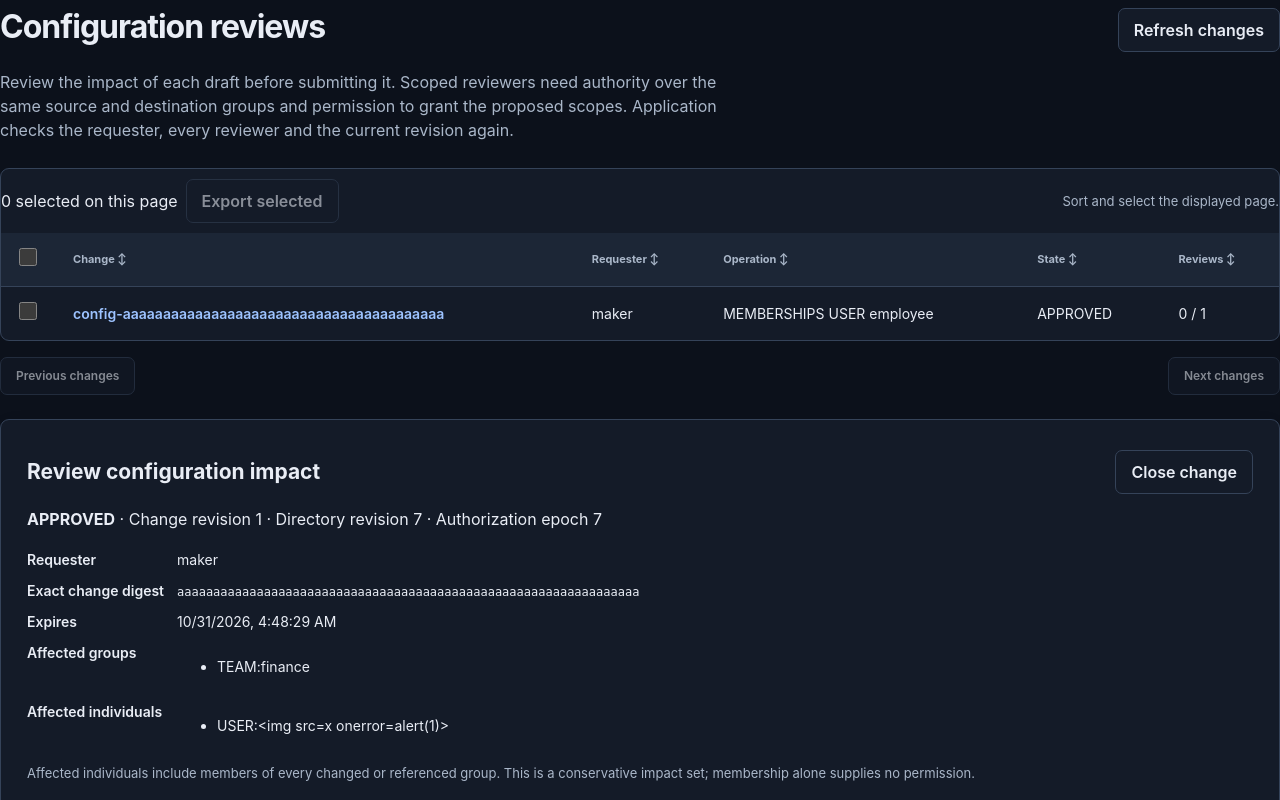
Scenario: removes stale review actions when refreshing the detail fails
This screenshot has width=1280, height=800.
Click the button "Refresh changes".
click(1199, 30)  # box x1=1118 y1=8 x2=1279 y2=52
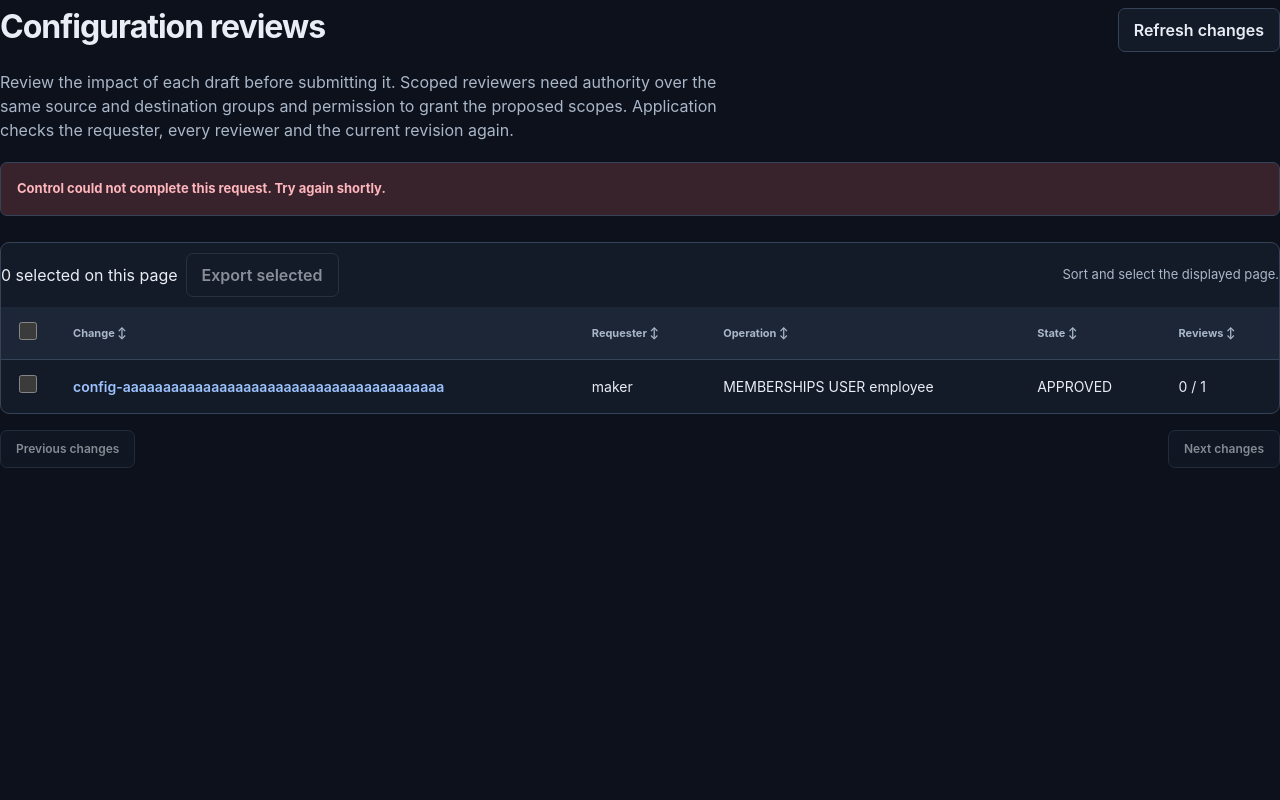
Expected: the message "Control could not complete this request. Try again shortly." is shown, x1=0 y1=162 x2=1279 y2=216
